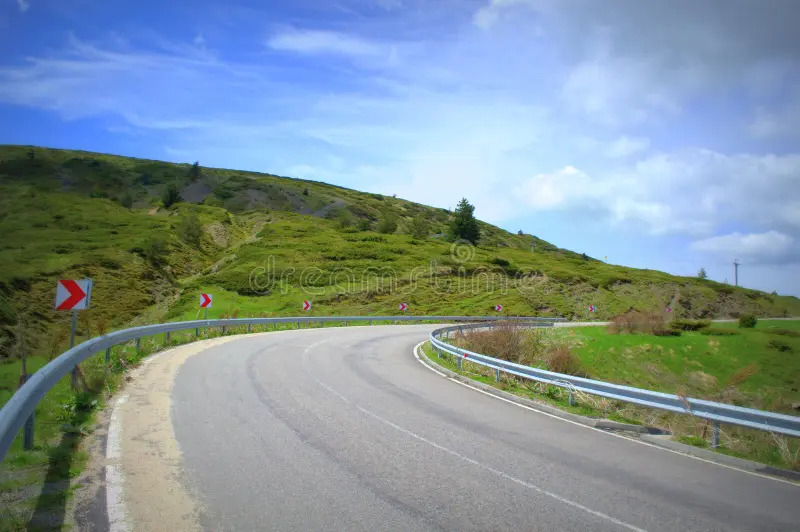rightTrun: (213, 298, 449, 506)
